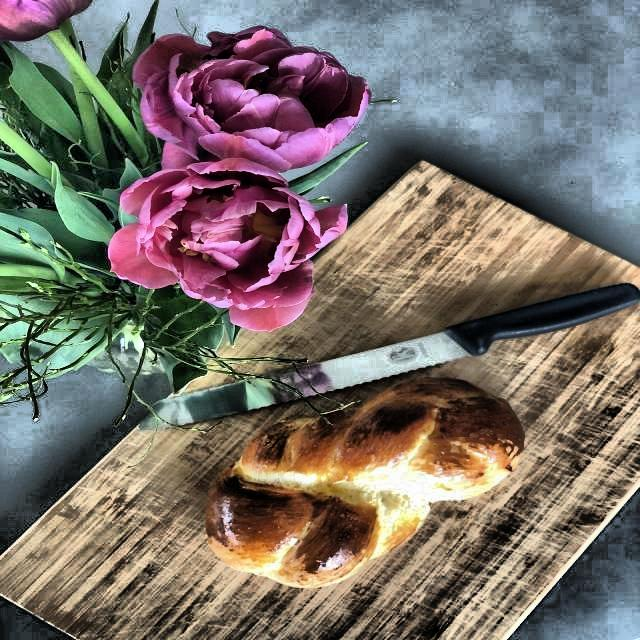knife: (126, 277, 640, 437)
